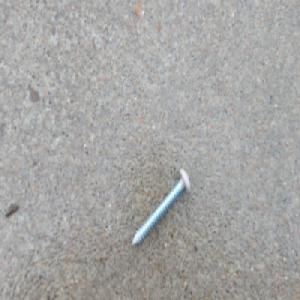Nail: (130, 167, 191, 248)
